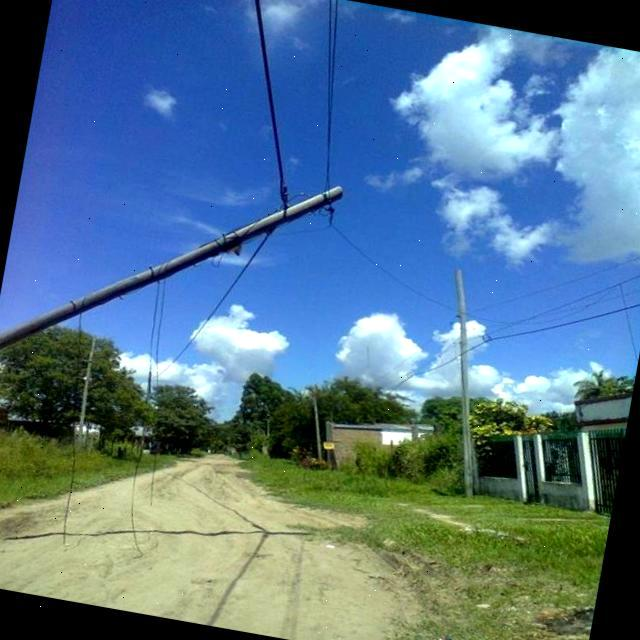Broken Pole: (0, 185, 341, 348)
